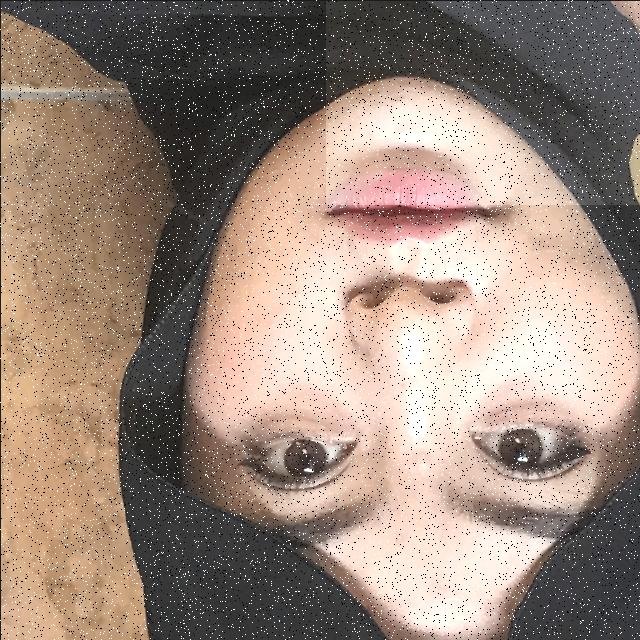kamu: (325, 0, 640, 204)
